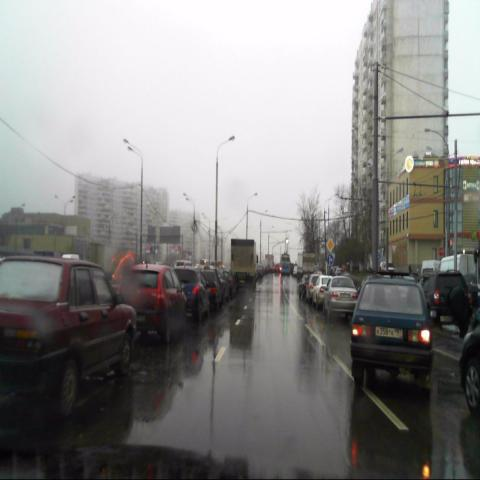2_1: (326, 237, 334, 252)
4_1_4: (327, 254, 333, 265)
